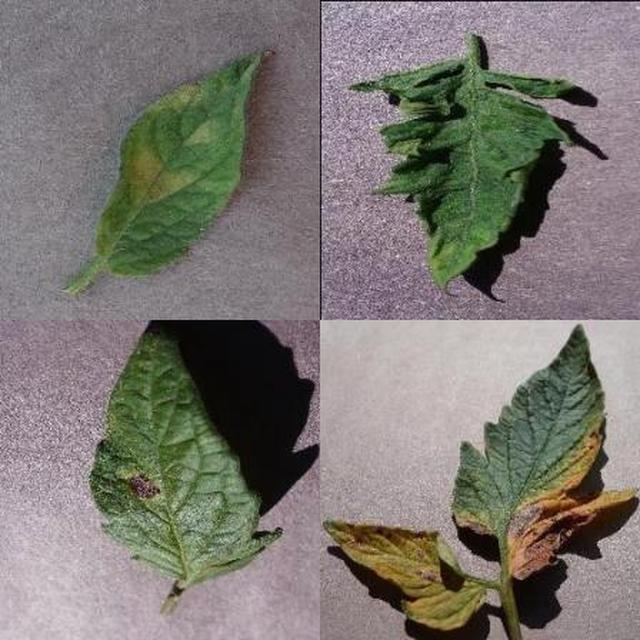Leaf Mold: (248, 234, 640, 640)
